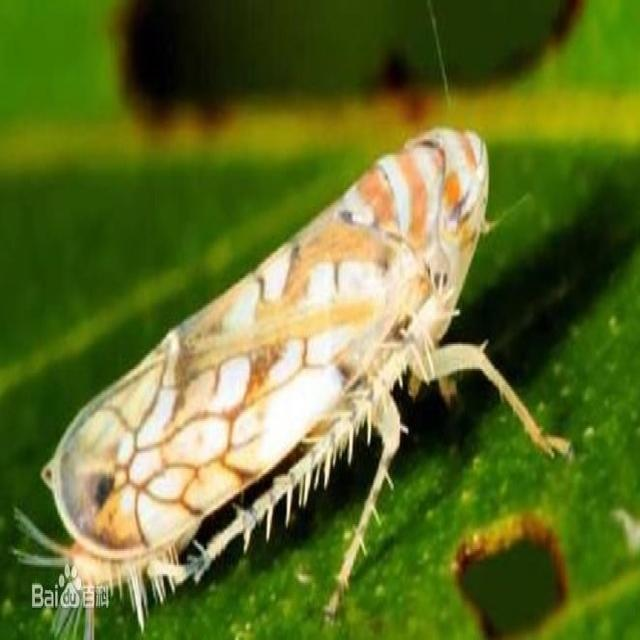Yechan: (39, 121, 578, 610)
